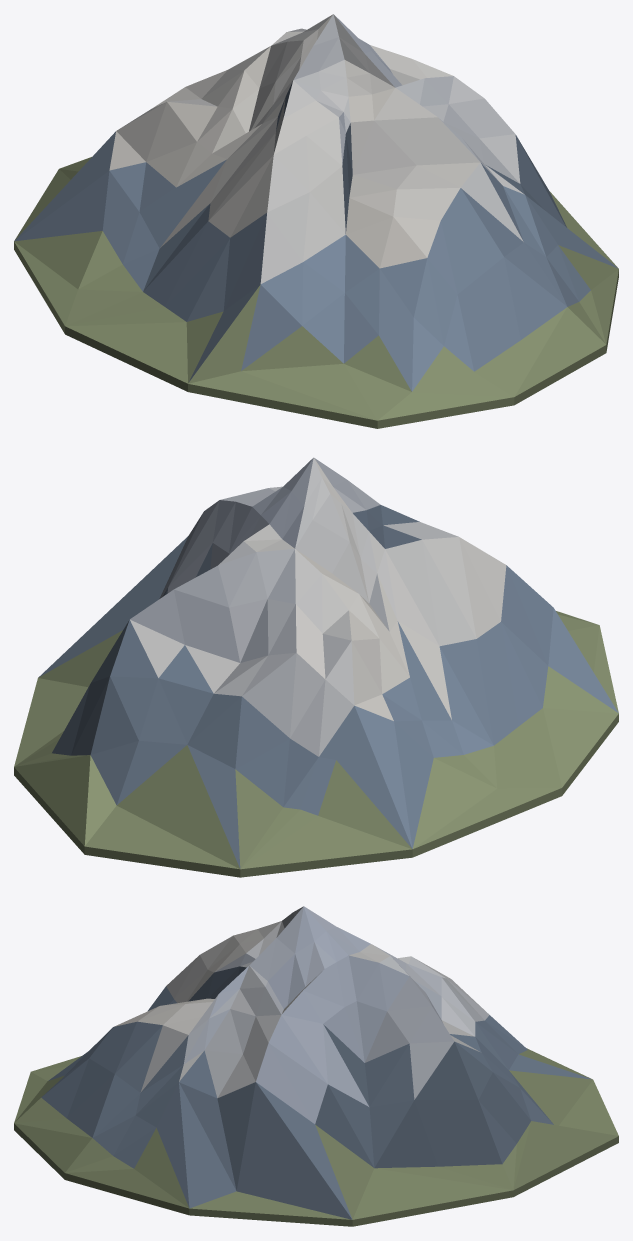
Rendered from massif_needle_ridge.glb.
The picture shows the model from 3 angles, top to bottom: view 1: azimuth 30°, elevation 25°; view 2: azimuth 150°, elevation 25°; view 3: azimuth 270°, elevation 25°; orthographic projection. The views are drawn at different scales.
Parts seen in each view (by area): view 1: massif_needle_ridge; view 2: massif_needle_ridge; view 3: massif_needle_ridge.
Boxes of the visible parts, box(x1,y1,x2,y2) form: massif_needle_ridge: box(14, 14, 618, 428); massif_needle_ridge: box(14, 457, 618, 877); massif_needle_ridge: box(14, 906, 618, 1226).
Bounding box in the file's own units: 558 × 282 × 699.
